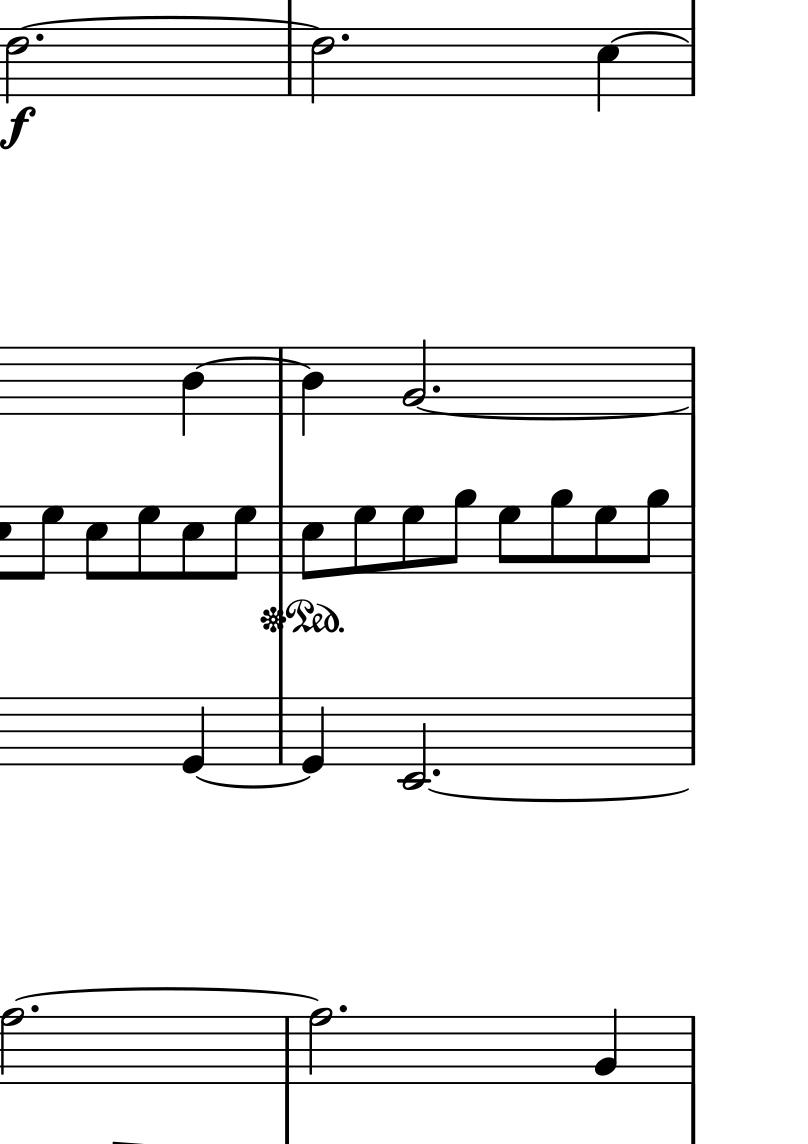2_-2: (399, 693, 429, 792)
2_2: (401, 338, 430, 418)
2_6: (5, 27, 31, 103), (310, 28, 336, 104)
2_8: (307, 1006, 334, 1086), (1, 1007, 25, 1084)
4_0: (180, 696, 207, 776), (300, 696, 327, 775)
4_2: (593, 1006, 620, 1086)
4_4: (300, 346, 326, 439), (181, 345, 206, 440)
4_5: (596, 26, 620, 115)
8_5: (299, 504, 326, 583), (179, 504, 206, 582), (83, 504, 109, 583)
8_7: (31, 505, 65, 580), (224, 505, 257, 581), (136, 504, 162, 581), (592, 505, 619, 575), (352, 505, 378, 576), (497, 505, 523, 576), (400, 505, 426, 575)
8_9: (635, 488, 671, 576), (444, 488, 478, 577), (549, 488, 575, 576)
Single_barline: (683, 28, 703, 97), (274, 347, 294, 416), (682, 697, 702, 765), (279, 1017, 299, 1083), (683, 506, 702, 575), (281, 31, 301, 96), (273, 506, 292, 574), (273, 698, 290, 764), (684, 1016, 701, 1082), (684, 346, 700, 409)
Slur: (16, 985, 322, 1003), (416, 403, 690, 420), (426, 786, 690, 803), (22, 14, 320, 28), (196, 353, 313, 369), (196, 775, 312, 790), (610, 31, 689, 41)
dot: (429, 381, 443, 397), (430, 765, 443, 780), (336, 1002, 349, 1016), (339, 31, 352, 44), (29, 1003, 41, 1015), (34, 32, 45, 44)
f: (1, 105, 39, 151)
